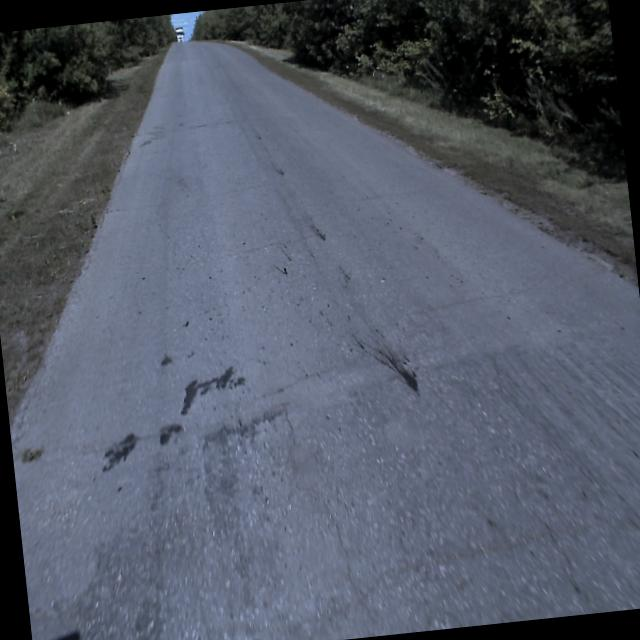road: (10, 40, 640, 640)
